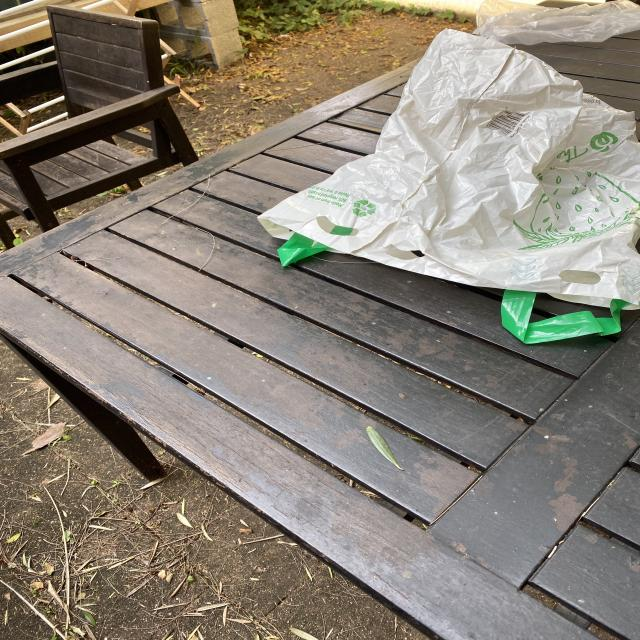bag: (256, 27, 640, 346)
cloth: (470, 2, 640, 46)
